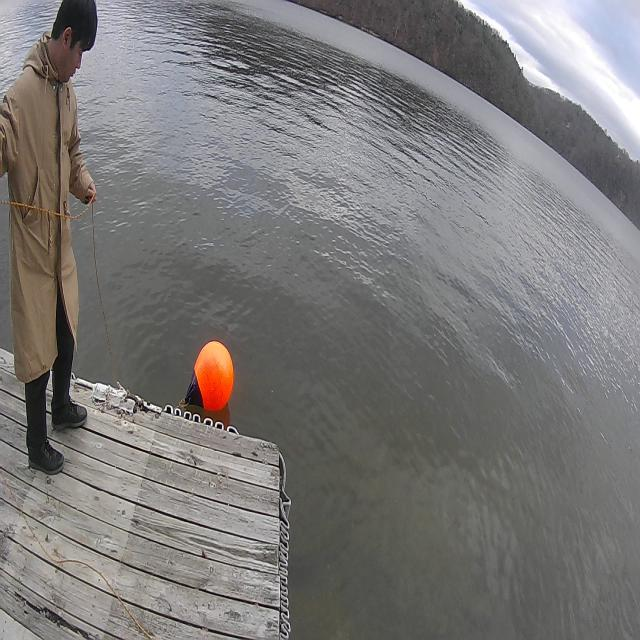Buoy: (178, 325, 240, 429)
